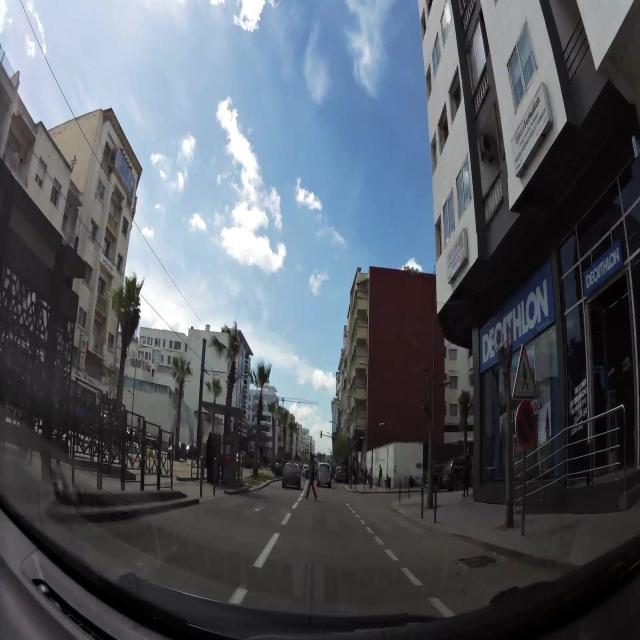forb_stopping: (515, 399, 537, 449)
